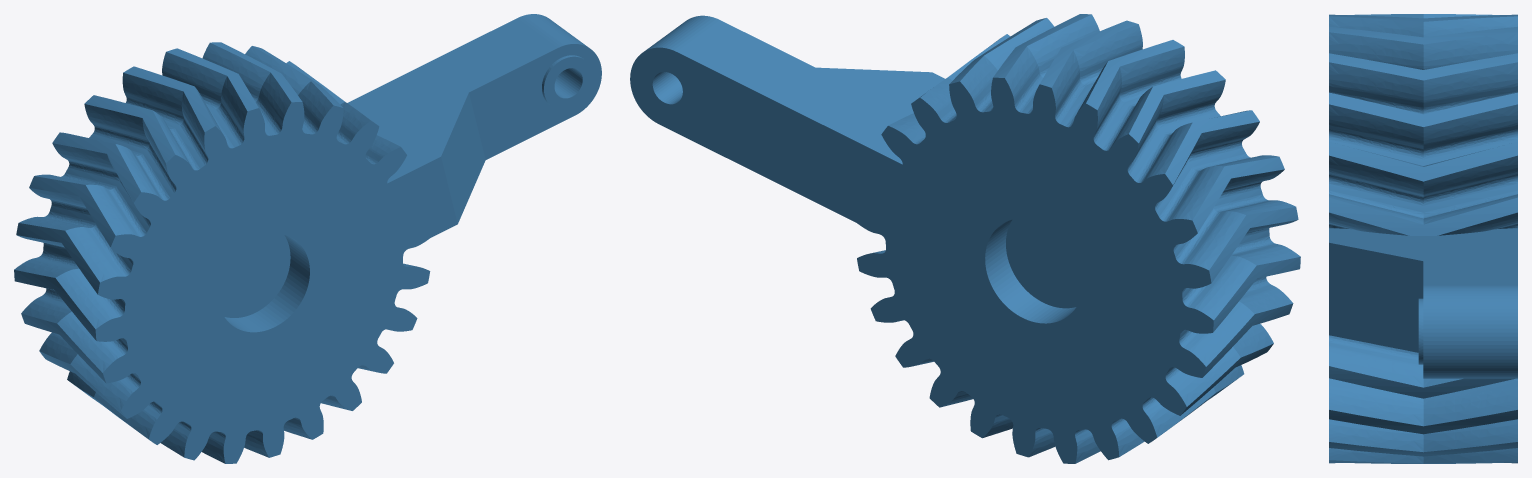
The model's file is left_gear.obj.
3 renders of one model, left to right at view 1: azimuth 30°, elevation 25°; view 2: azimuth 150°, elevation 25°; view 3: azimuth 270°, elevation 25°, orthographic. The views are drawn at different scales.
Parts seen in each view (by area): view 1: geometry_1; view 2: geometry_1; view 3: geometry_1.
Boxes of the visible parts, bbox=[...] form: geometry_1: bbox=[14, 14, 601, 463]; geometry_1: bbox=[630, 14, 1300, 463]; geometry_1: bbox=[1329, 14, 1517, 463].
Bounding box in the file's own units: 77.41 × 47.66 × 20.
